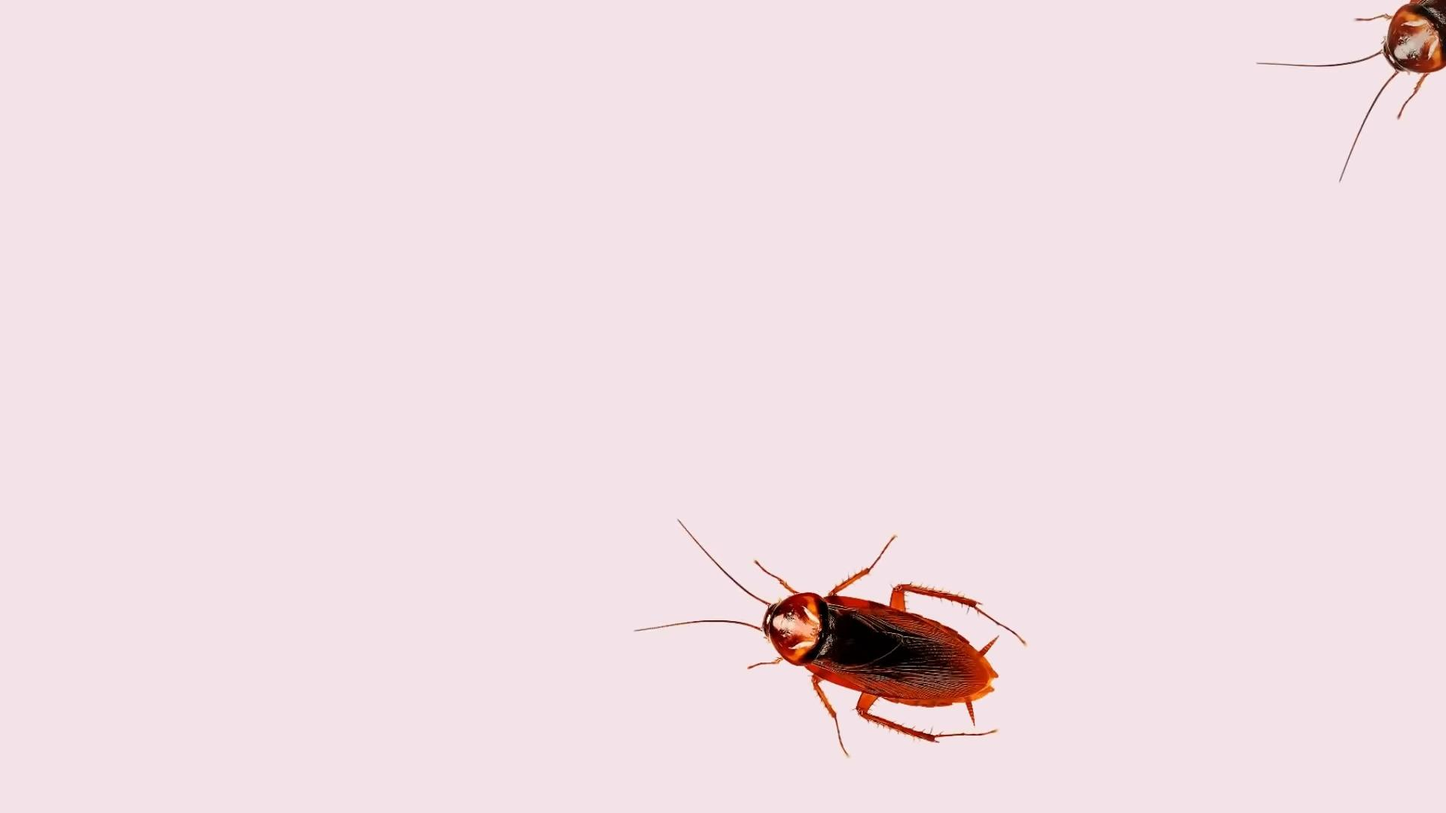cockroach: (665, 524, 1024, 764)
